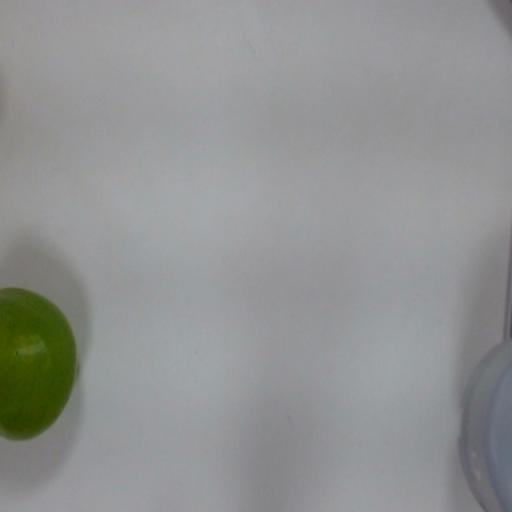Unripe: (1, 265, 86, 454)
